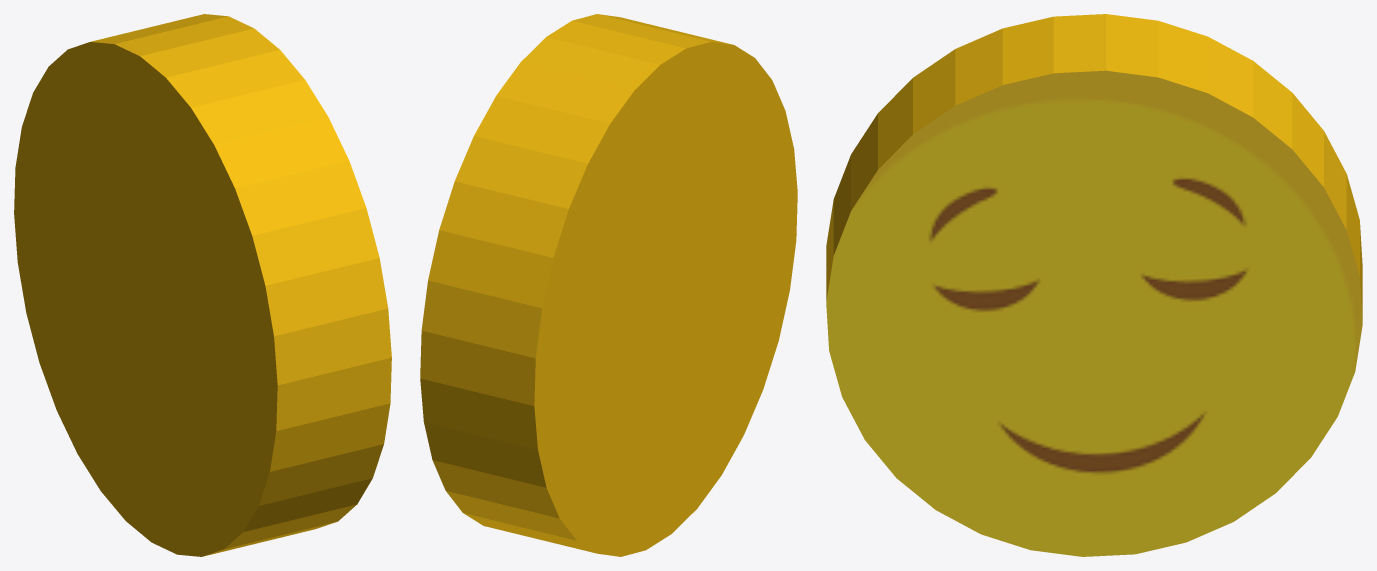
The model's file is calm.gltf.
3 views of the same model, side by side, from view 1: azimuth 30°, elevation 25°; view 2: azimuth 150°, elevation 25°; view 3: azimuth 270°, elevation 25° (orthographic).
Parts seen in each view (by area): view 1: Cylinder; view 2: Cylinder; view 3: Cylinder.
Boxes of the visible parts, left/top/right/bottom form: Cylinder: left=14, top=14, right=391, bottom=556; Cylinder: left=420, top=14, right=797, bottom=556; Cylinder: left=826, top=14, right=1362, bottom=556.
Size of the model in its own units: 0.5 by 2 by 2.
Materials: 2 (2 with a texture image).
